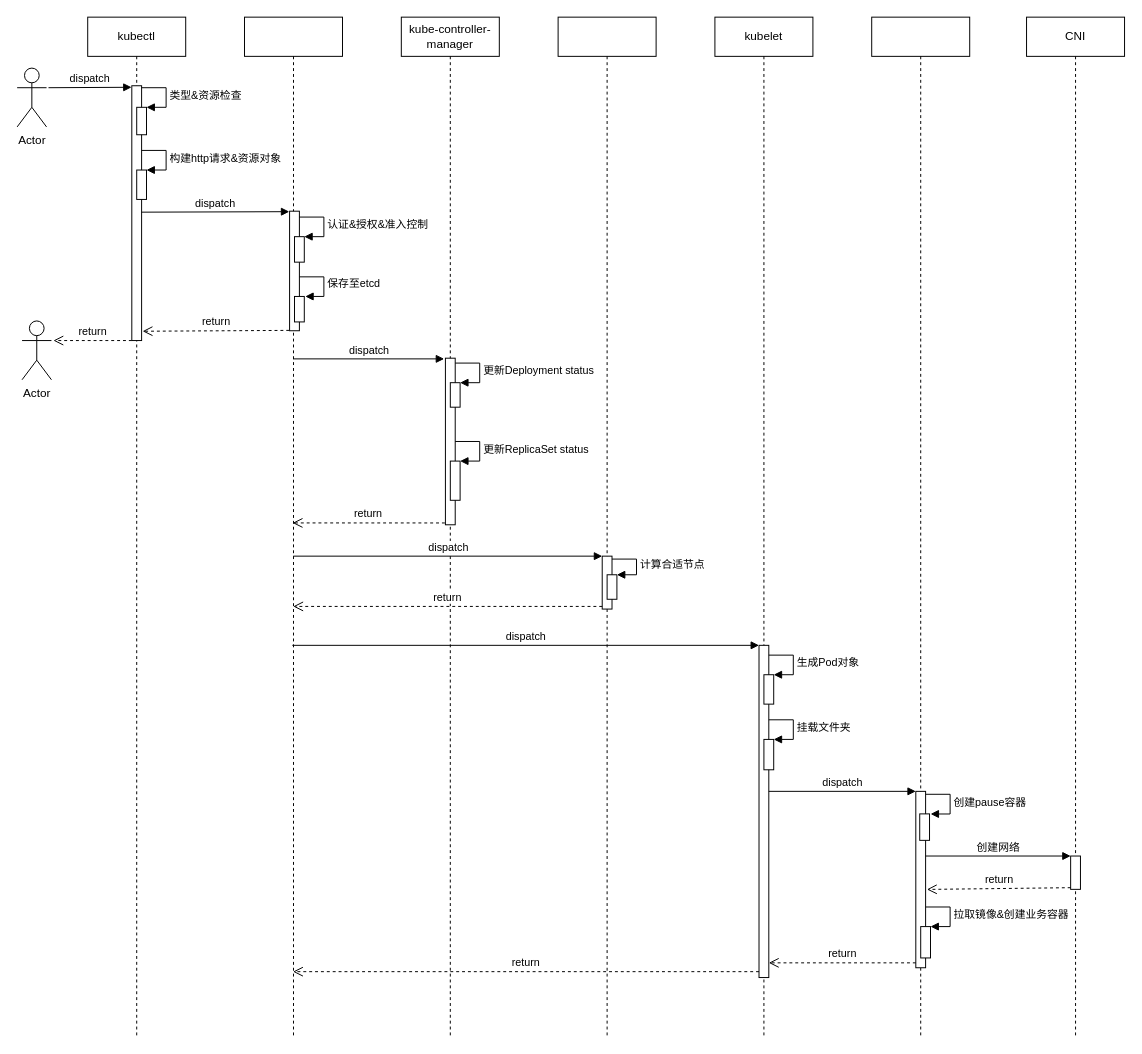
The diagram is 1142 pixels wide and 1054 high, and some of its shapes have lost their labels. The box of each missing label's shape, as (x1, y1, x2, y2) in pixels:
CRI: (871, 16, 970, 1036)
kube-apiserver: (244, 16, 343, 1036)
kube-scheduler: (557, 16, 656, 1036)
